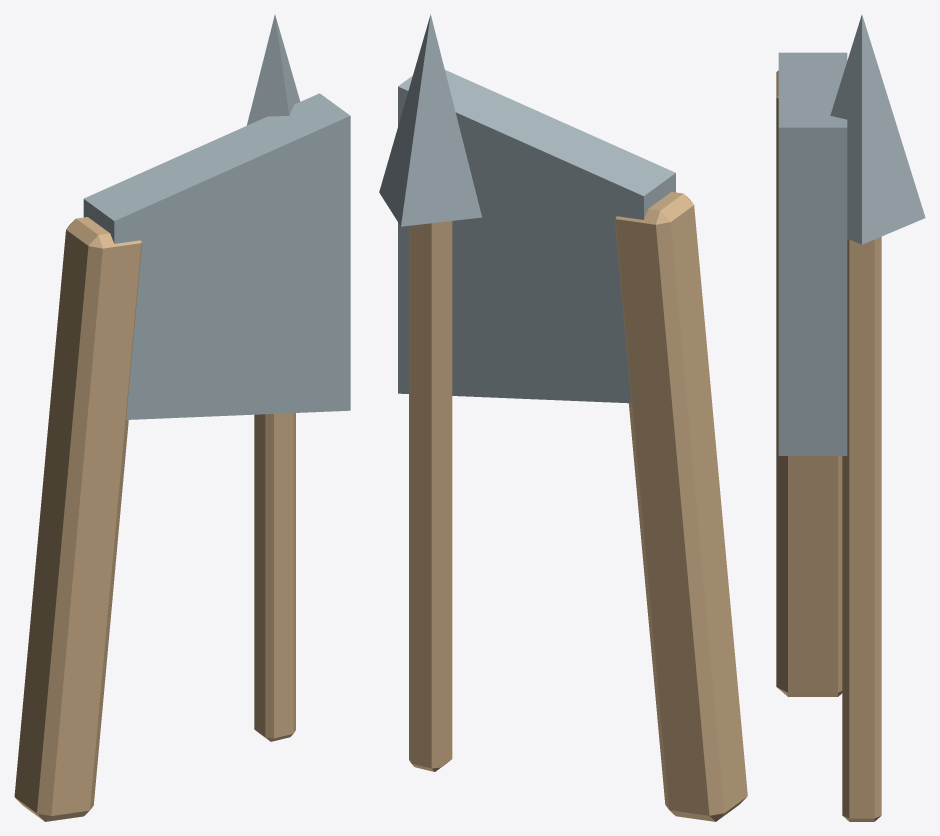
Rendered from cargo_weapons.fbx.
3 views of the same model, side by side, from view 1: azimuth 30°, elevation 25°; view 2: azimuth 150°, elevation 25°; view 3: azimuth 270°, elevation 25° (orthographic). The views are drawn at different scales.
Parts seen in each view (by area): view 1: cargo_weapons_mesh; view 2: cargo_weapons_mesh; view 3: cargo_weapons_mesh.
Boxes of the visible parts, box(x1,y1,x2,y2) form: cargo_weapons_mesh: box(14, 14, 350, 821); cargo_weapons_mesh: box(379, 14, 747, 821); cargo_weapons_mesh: box(776, 15, 925, 821).
Size of the model in its own units: 0.4212 by 0.9075 by 0.1525.
